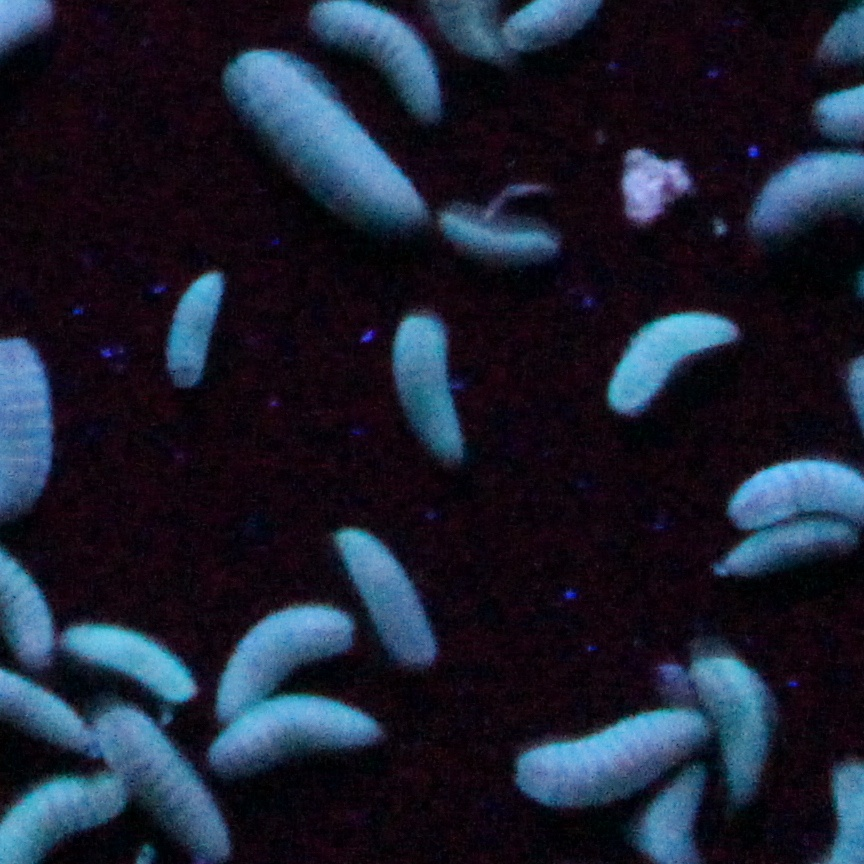larve: (219, 43, 425, 231), (90, 706, 238, 853), (214, 602, 358, 716), (332, 525, 438, 667), (610, 296, 733, 409), (679, 654, 768, 795), (510, 724, 707, 785), (390, 321, 469, 465), (208, 698, 372, 766), (70, 616, 193, 702), (160, 275, 227, 391), (439, 202, 557, 264)
